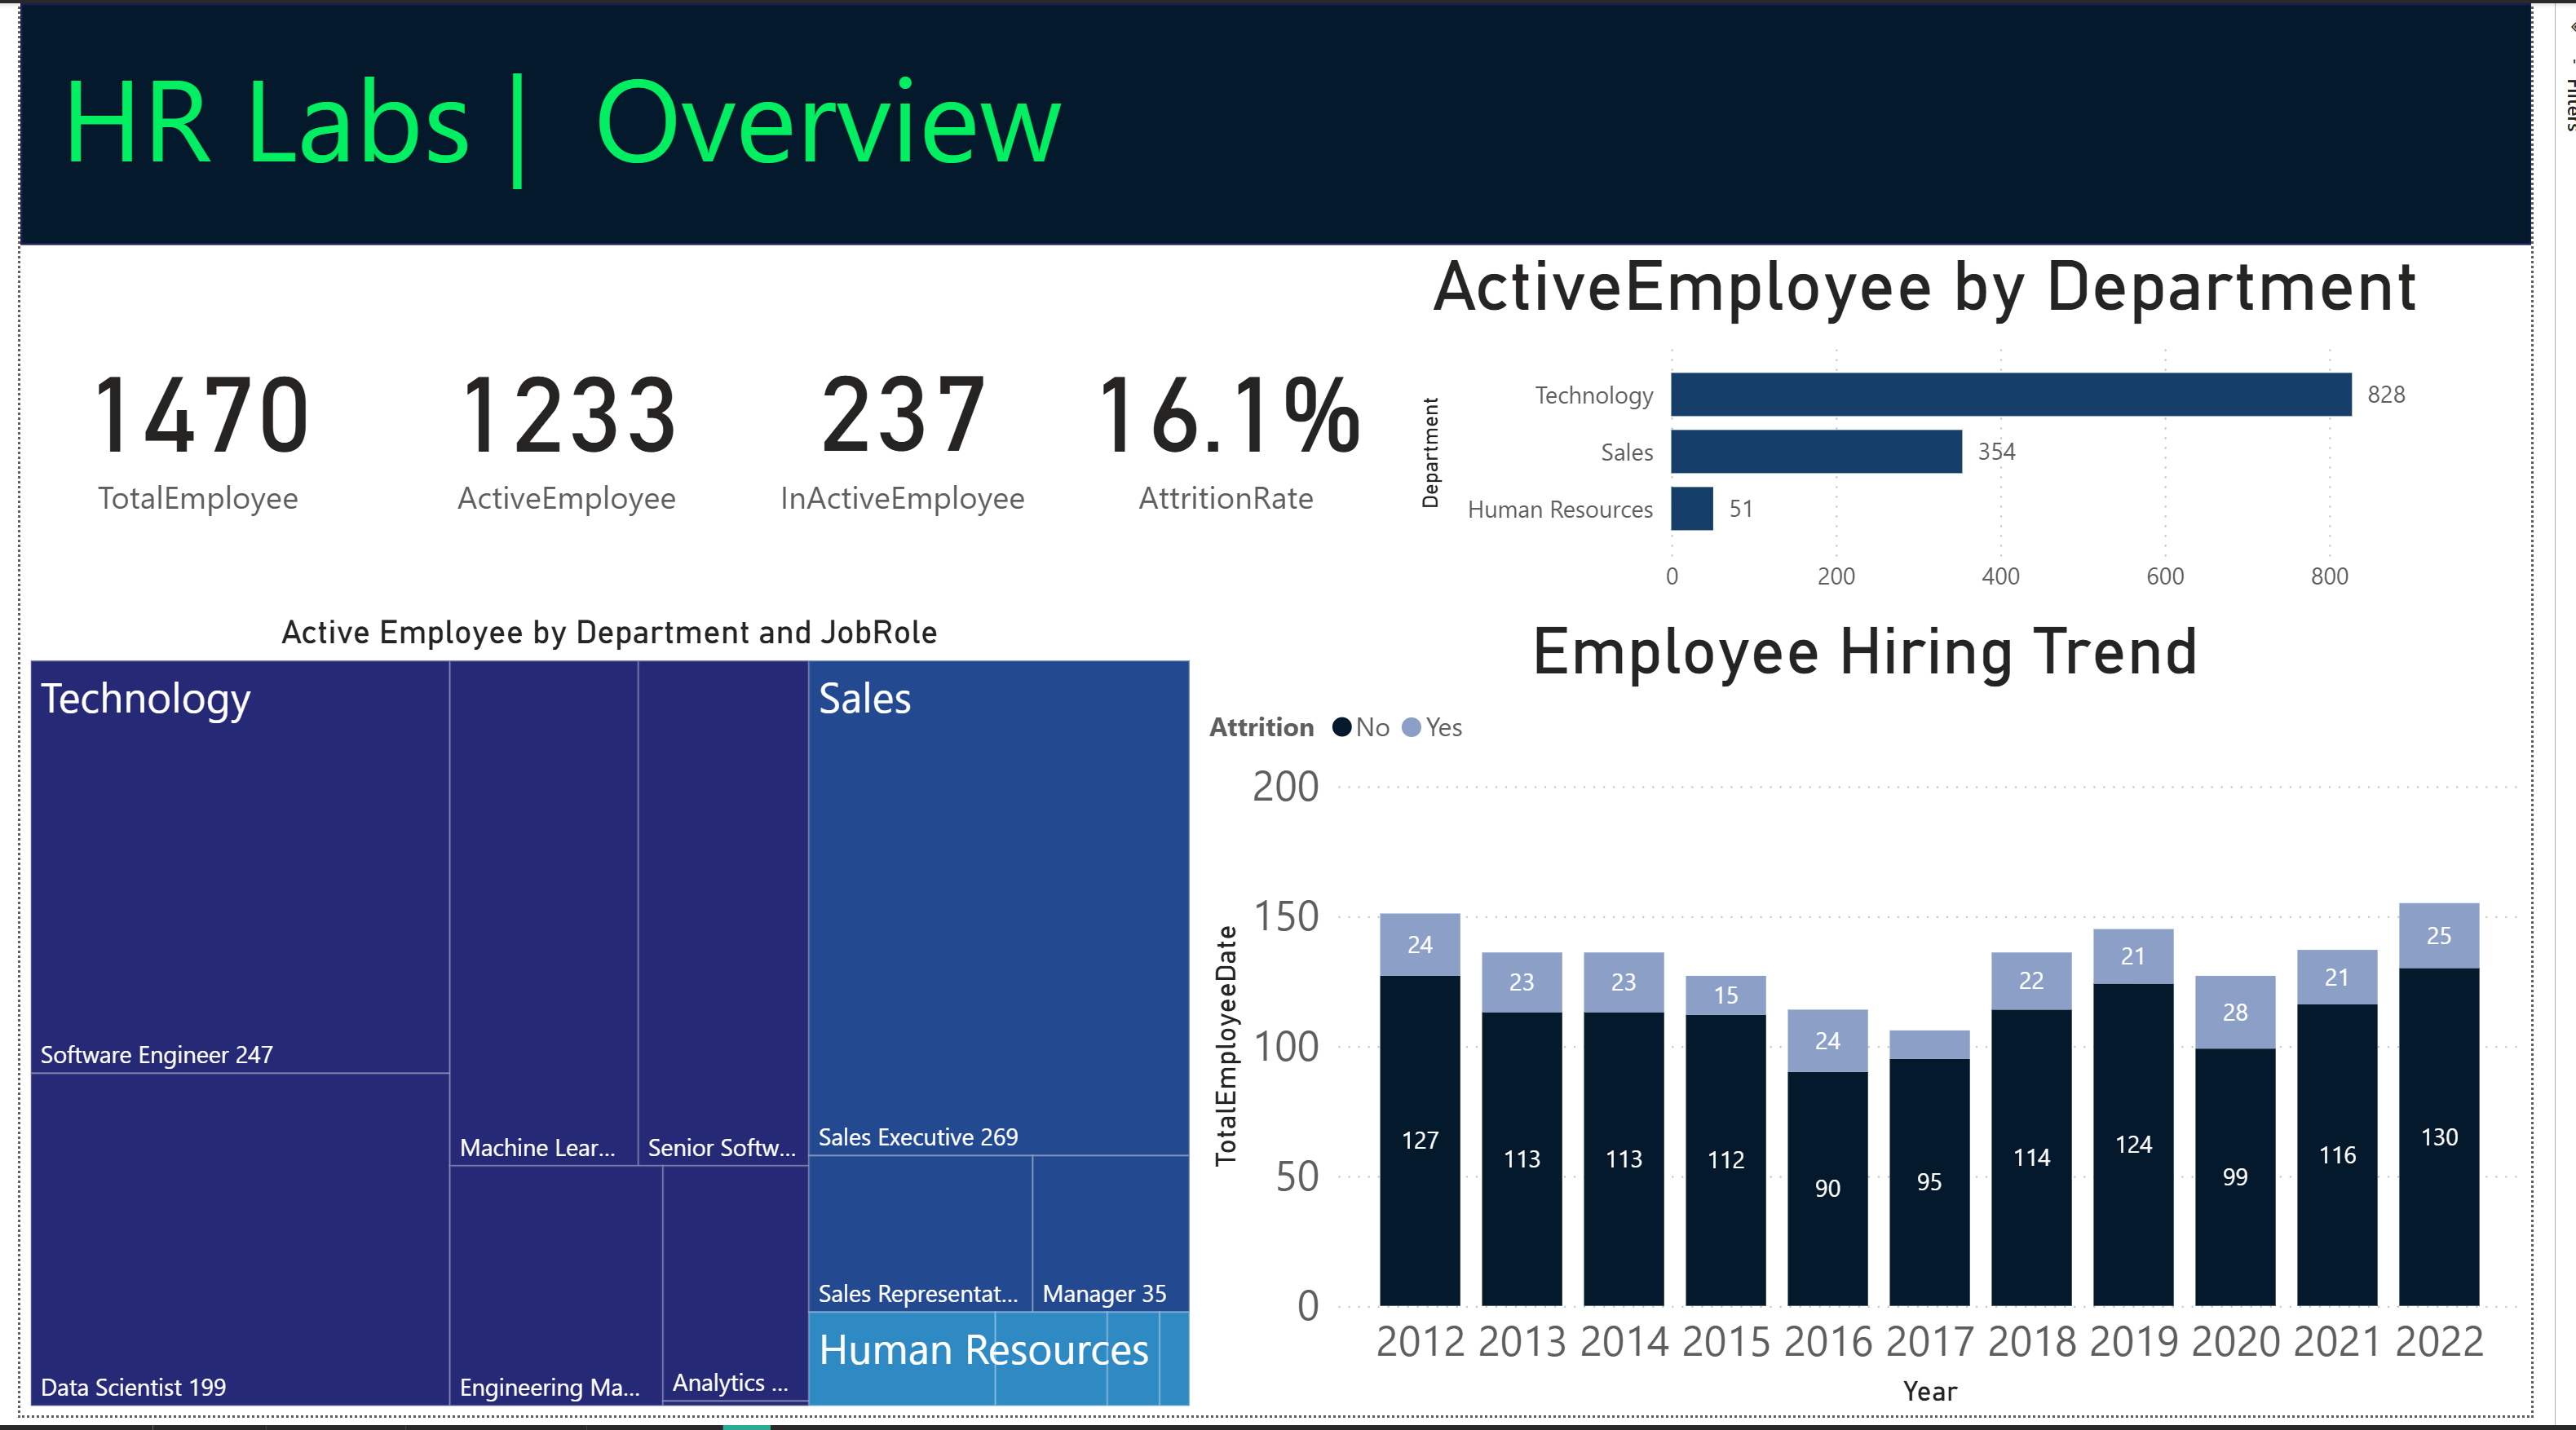

What the dashboard file says about the page in this screenshot:
{"tool":"powerbi","page":{"name":"OverView","canvas":[1280,720],"ordinal":0},"visuals":[{"type":"card","fields":{"Values":["_Measures.TotalEmployee"]},"box":[0,123,181.1,180.4],"z":0},{"type":"card","fields":{"Values":["_Measures.ActiveEmployee"]},"box":[184.8,123,187.8,180.4],"z":1000},{"type":"card","fields":{"Values":["_Measures.InActiveEmployee"]},"box":[372.6,123,153.9,180.4],"z":2000},{"type":"card","fields":{"Values":["_Measures.AttritionRate"]},"box":[526.5,123,176.7,180.4],"z":3000},{"type":"columnChart","title":"Employee Hiring Trend","fields":{"Category":["DimDate.Date.Variation.Date Hierarchy.Year"],"Y":["_Measures.TotalEmployeeDate"],"Series":["Employee -Dim.Attrition"]},"box":[600.9,332,678.4,387.8],"z":4000},{"type":"clusteredBarChart","fields":{"Y":["_Measures.ActiveEmployee"],"Category":["Employee -Dim.Department"]},"box":[708.4,123,525.7,187.8],"z":5000},{"type":"treemap","title":"Active Employee by Department and JobRole","fields":{"Group":["Employee -Dim.Department"],"Values":["_Measures.ActiveEmployee"],"Details":["Employee -Dim.JobRole"]},"box":[0,310.7,600.9,409.4],"z":6000},{"type":"shape","box":[0,0,1280.6,123.2],"z":7000},{"type":"textbox","box":[15.6,12.1,956.1,92],"z":8000}]}

Visuals, with their boxes on the page's 1280x720 design canvas (x1, y1, x2, y2). These are canvas units, not pixel positions in the 2576x1430 screenshot, which may show the page scaled, cropped or inside an application window:
card - _Measures.TotalEmployee: (x1=0, y1=123, x2=181, y2=303)
card - _Measures.ActiveEmployee: (x1=185, y1=123, x2=373, y2=303)
card - _Measures.InActiveEmployee: (x1=373, y1=123, x2=526, y2=303)
card - _Measures.AttritionRate: (x1=526, y1=123, x2=703, y2=303)
"Employee Hiring Trend" columnChart: (x1=601, y1=332, x2=1279, y2=720)
clusteredBarChart - _Measures.ActiveEmployee x Employee -Dim.Department: (x1=708, y1=123, x2=1234, y2=311)
"Active Employee by Department and JobRole" treemap: (x1=0, y1=311, x2=601, y2=720)
shape: (x1=0, y1=0, x2=1281, y2=123)
textbox: (x1=16, y1=12, x2=972, y2=104)
